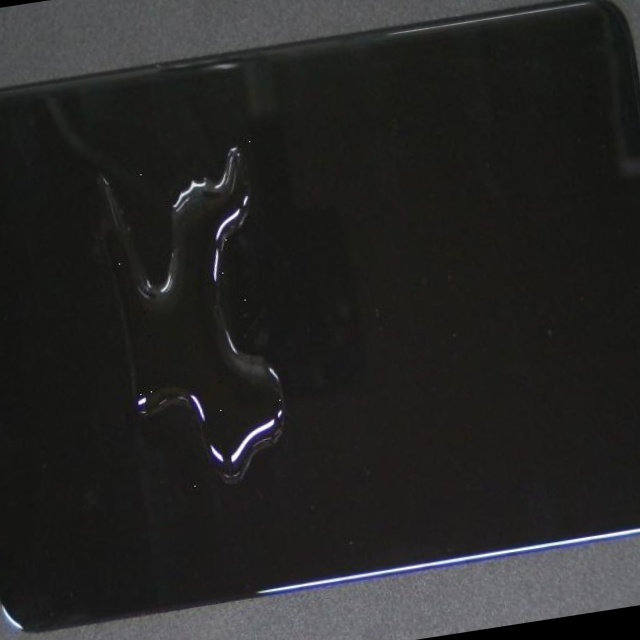oil: (112, 153, 453, 550)
